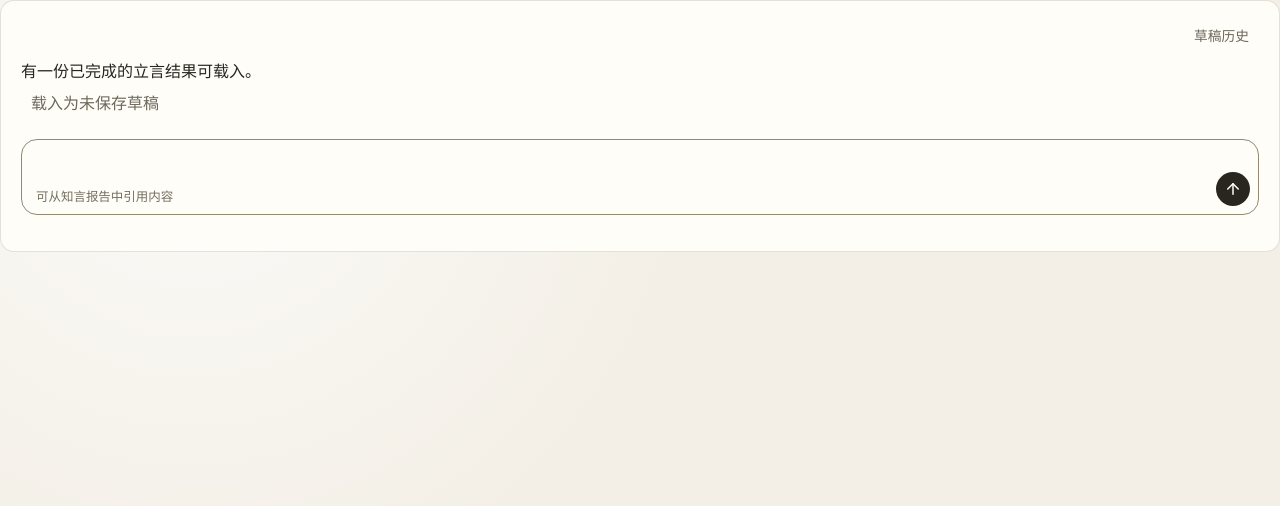
it: LiyanPanel › replaces an existing Working Copy with the completed regeneration
Click the button "载入为未保存草稿" at (95, 103), box [21,83,169,123]
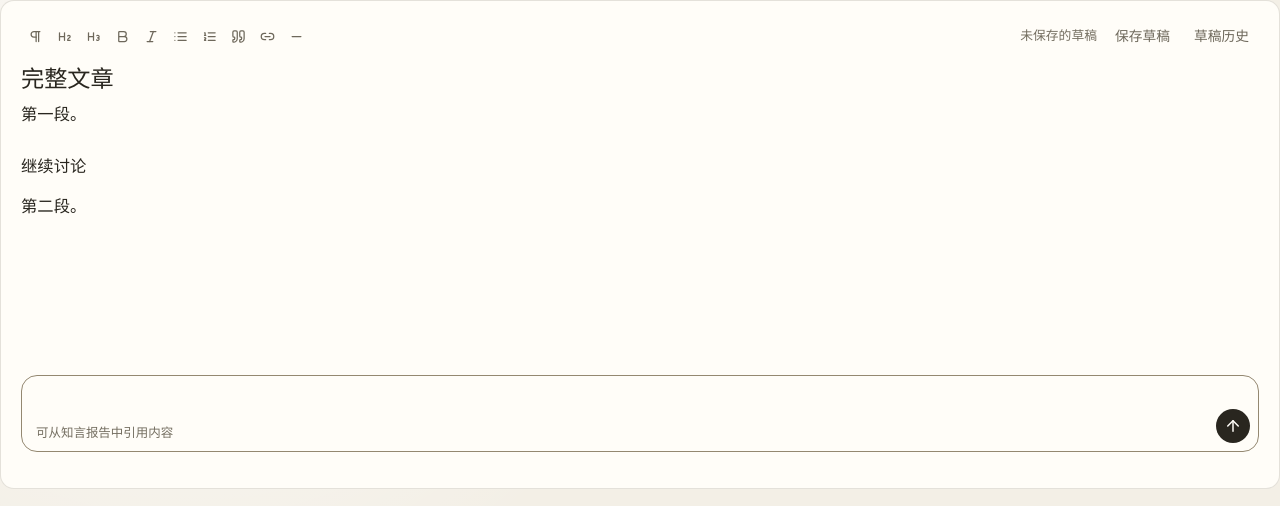
Result: the field showing "完整文章" is shown at [21,59,707,100]
Click the button named "默认生成" at (1233, 426), box [1216,409,1250,443]
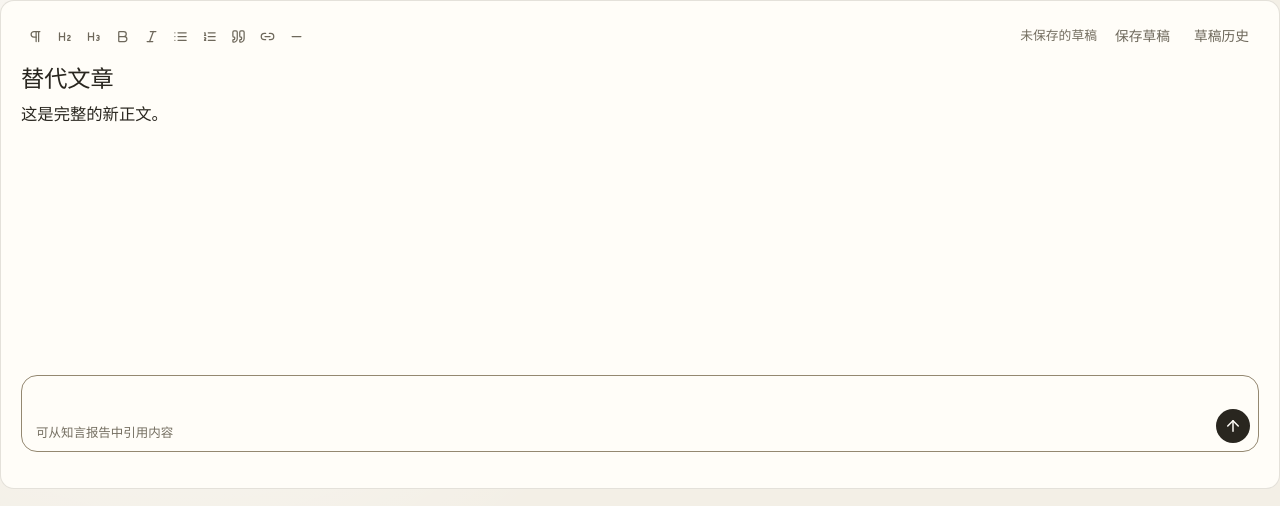
Expected: the field showing "完整文章" is not shown
Result: the field showing "替代文章" is shown at [21,59,707,100]
